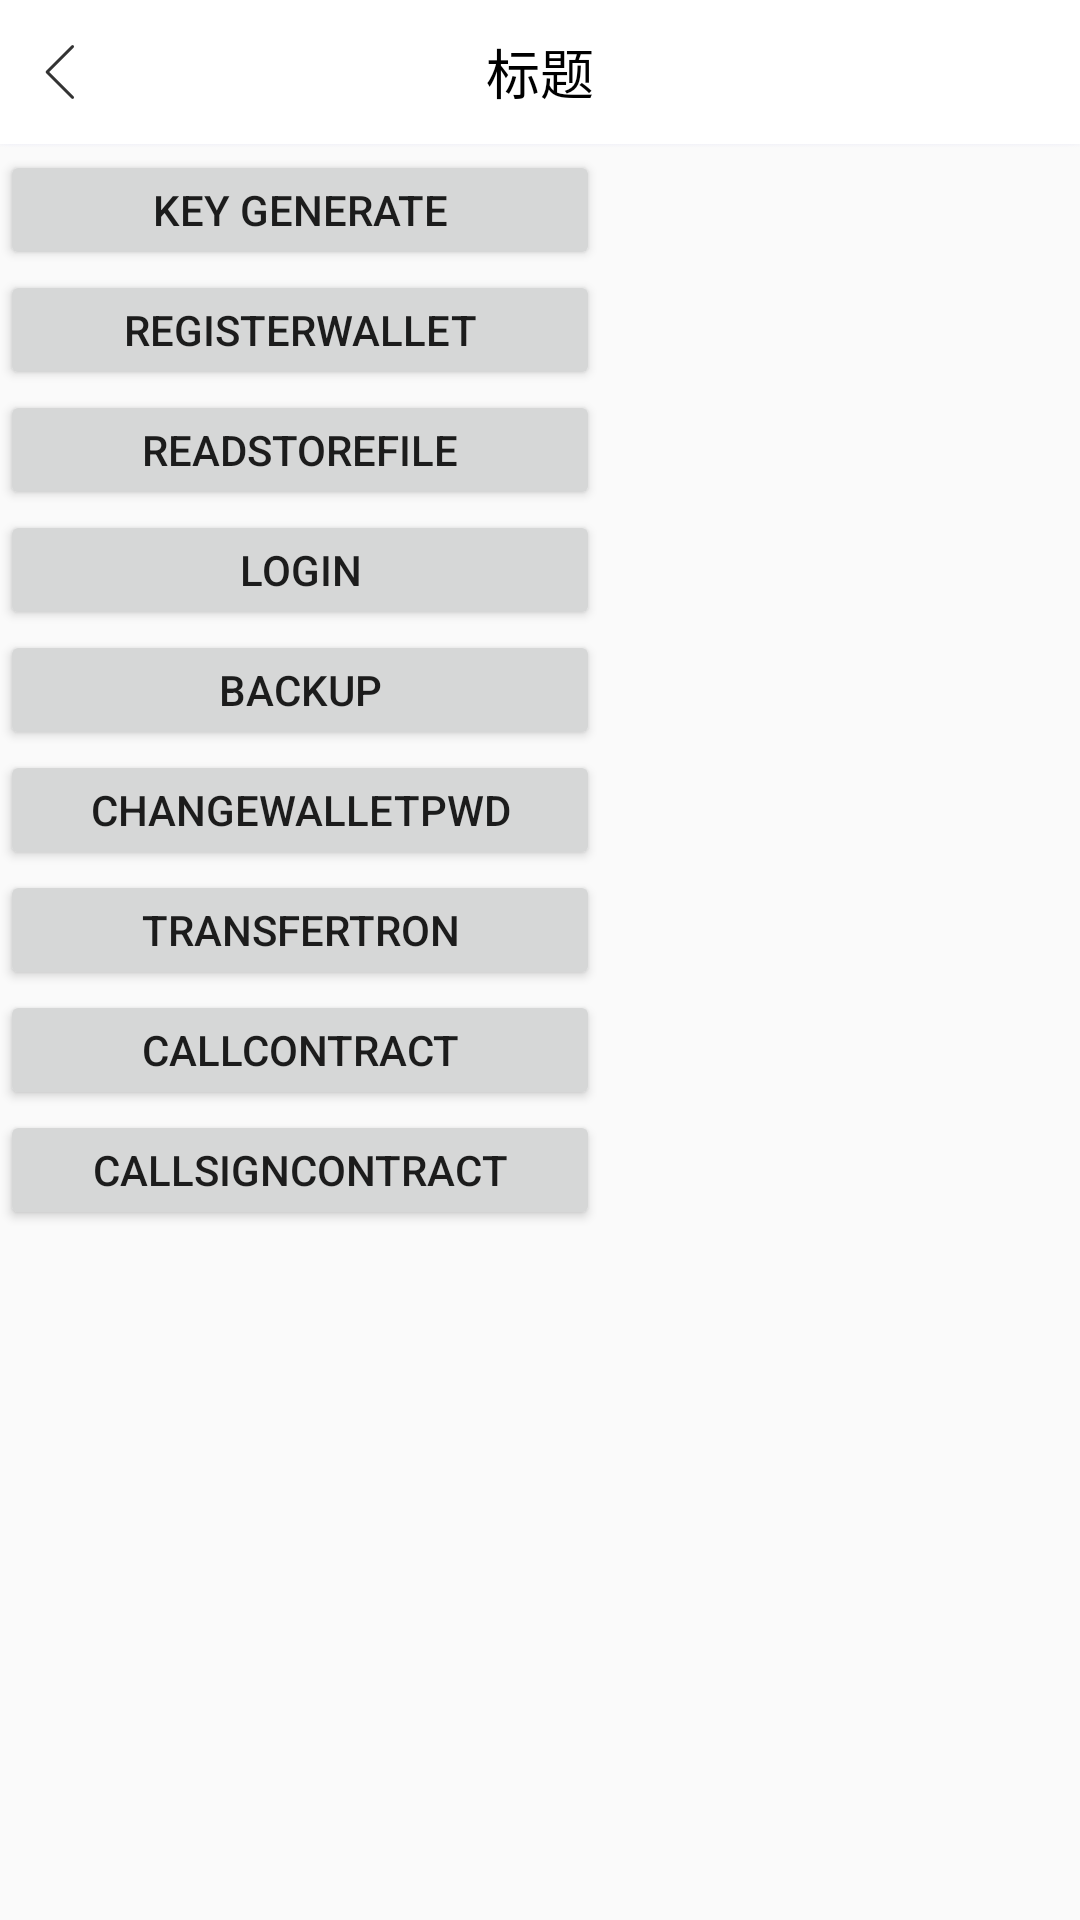

Icon bounding boxes for this 1080px x 1920px phone screenshot, format bbox(x1, y1, x2, y2):
back: bbox(45, 45, 74, 99)
